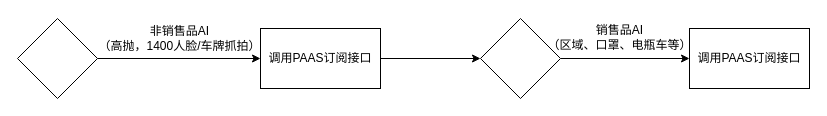
The diagram is 827 pixels wide and 116 high, and some of its shapes have lost their labels. Here are the shapes that lost their labels. From the top down, the box of each, then its label:
(16, 18, 98, 98): 查询设备 能力标签
(480, 18, 560, 98): 查询设备 AI套餐
